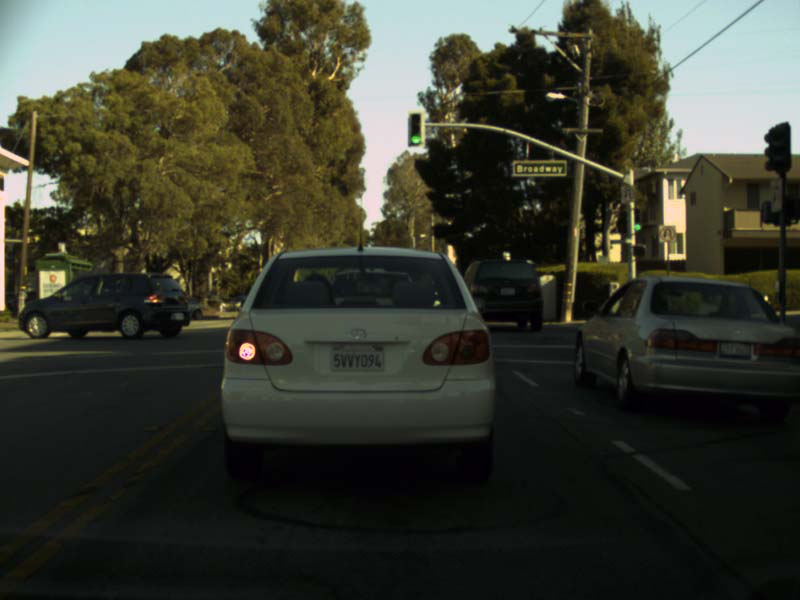Green: (409, 115, 420, 144), (633, 211, 641, 233)
